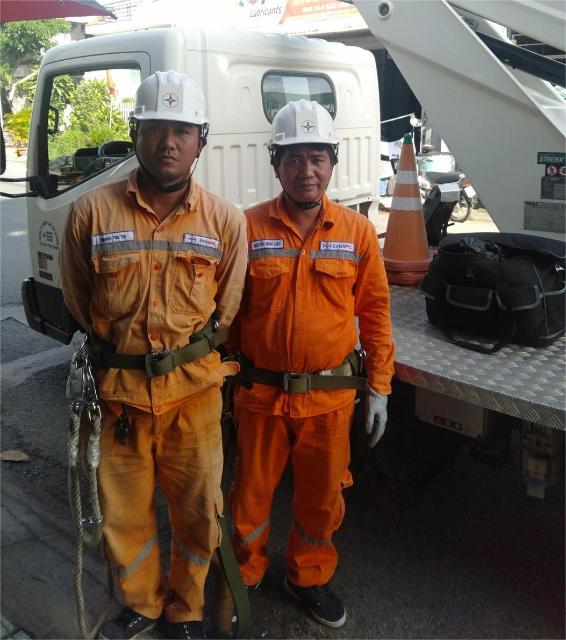gloves: (357, 371, 408, 464)
harness: (44, 324, 243, 393), (236, 323, 365, 406)
helmet: (253, 93, 353, 184), (131, 60, 214, 153)
shoes: (275, 564, 361, 632), (80, 581, 166, 640), (167, 601, 216, 640)
